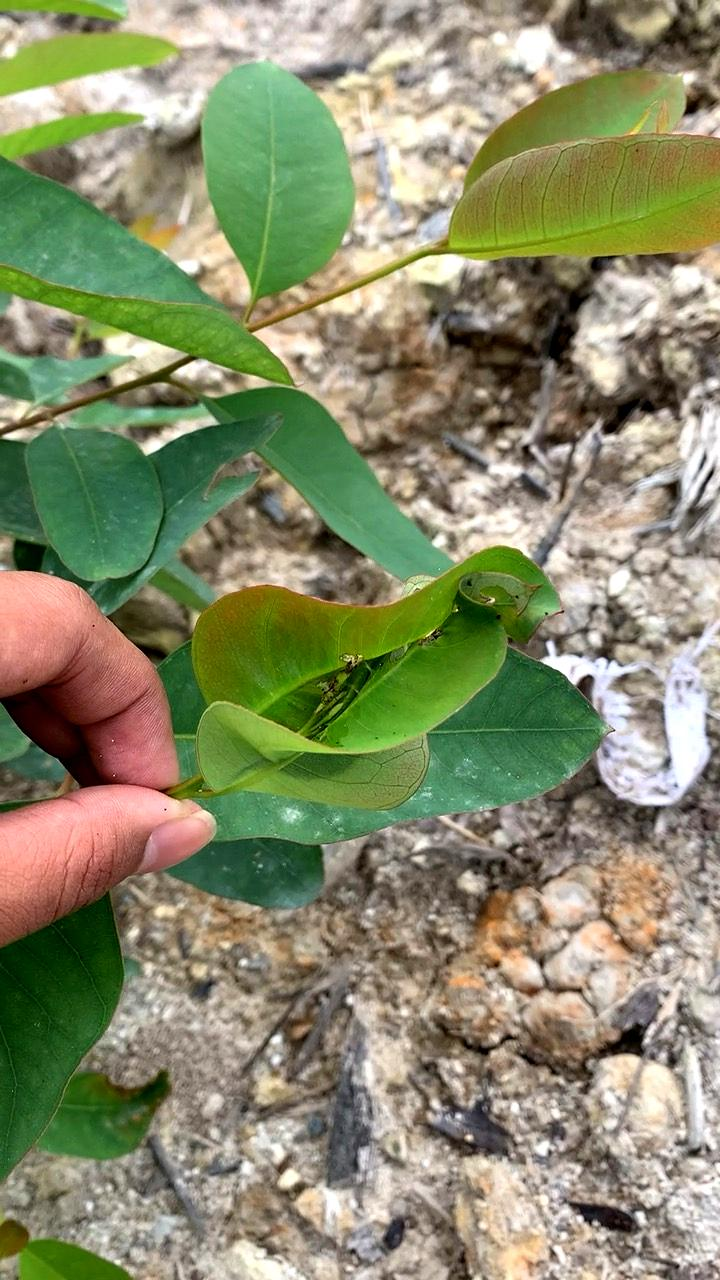Leaf Roller - Leaf: (135, 523, 595, 822)
